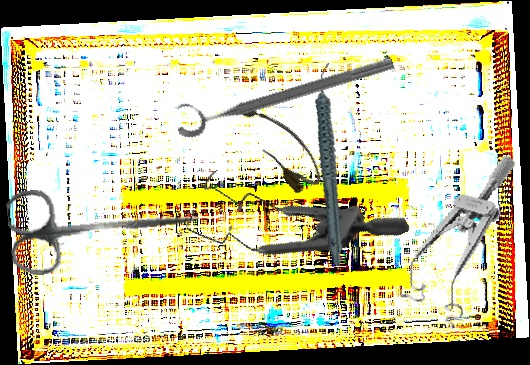Cannula: (229, 87, 330, 199)
Fixation Ring: (170, 38, 397, 142)
Handpiece: (290, 61, 373, 267)
Iris Scissors: (5, 173, 203, 278)
Speculum: (169, 105, 411, 318), (395, 138, 517, 335)
